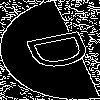D: (24, 25, 100, 73)
